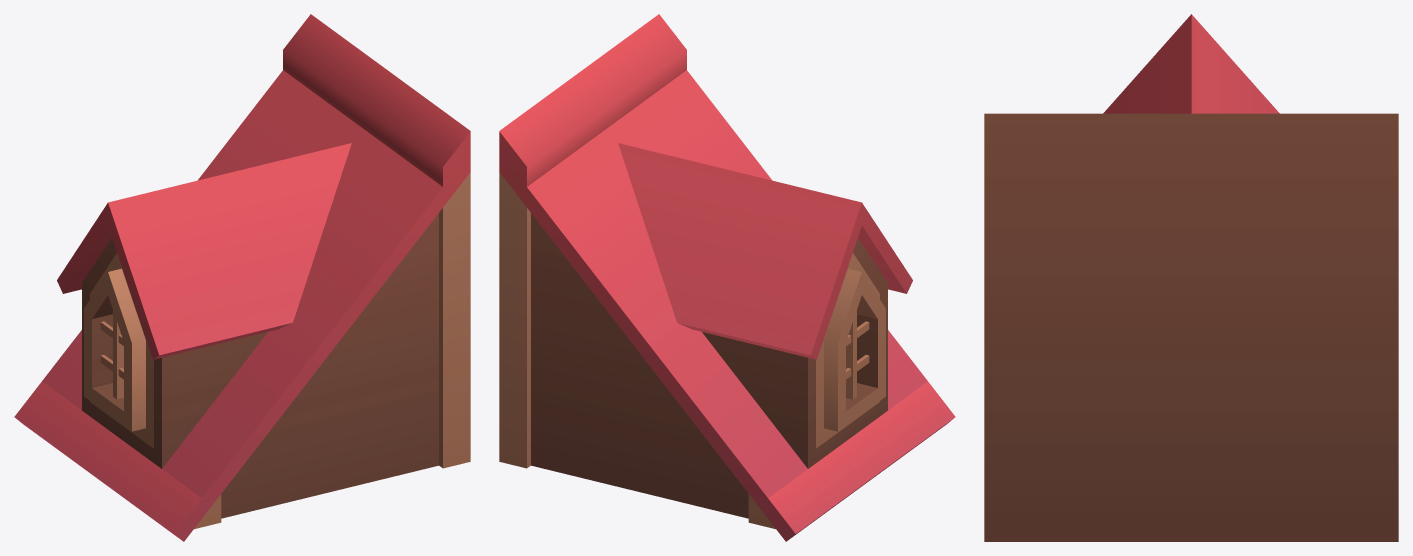
The model's file is roof-high-window.glb.
3 renders of one model, left to right at view 1: azimuth 30°, elevation 25°; view 2: azimuth 150°, elevation 25°; view 3: azimuth 270°, elevation 25°, orthographic. The views are drawn at different scales.
Parts seen in each view (by area): view 1: roof-high-window; view 2: roof-high-window; view 3: roof-high-window.
Part boxes in pixels (bbox=[...]): roof-high-window: bbox=[14, 14, 470, 541]; roof-high-window: bbox=[499, 14, 955, 541]; roof-high-window: bbox=[984, 14, 1398, 541].
Size of the model in its own units: 1.07 by 1.18 by 1.
Materials: 1 (1 with a texture image).
